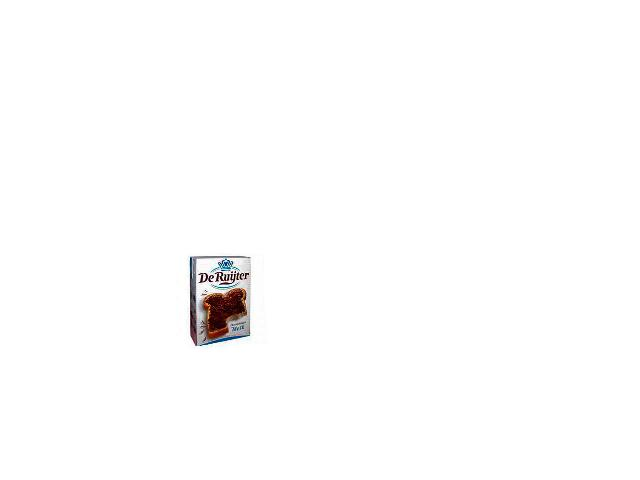chocolate: (181, 250, 258, 343)
